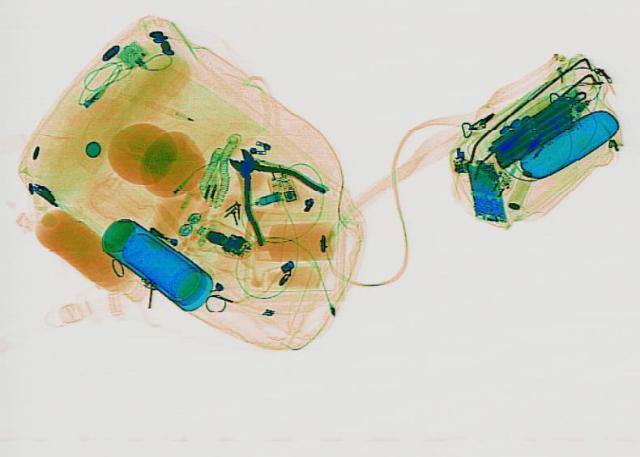Pliers: (184, 134, 346, 245)
